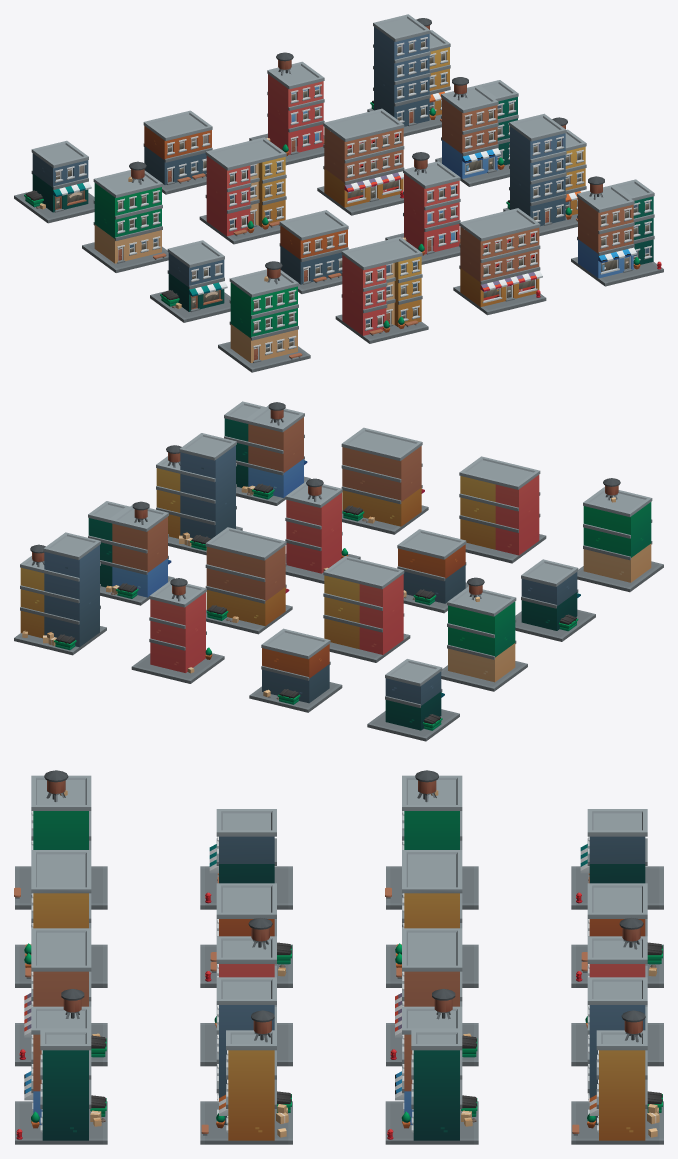
Rendered from map_buildings.glb.
3 views of the same model, one above another, from view 1: azimuth 30°, elevation 25°; view 2: azimuth 150°, elevation 25°; view 3: azimuth 270°, elevation 25° (orthographic). The views are drawn at different scales.
Visible parts, largest first — view 1: building_H, building_H.001, building_E, building_F, building_E.001, building_G, building_F.001, building_G.001, building_D, building_D.001, building_C, building_C.001 (+4 smaller); view 2: building_H.001, building_H, building_E, building_E.001, building_F, building_F.001, building_D, building_D.001, building_G.001, building_G, building_C.001, building_C (+4 smaller); view 3: building_H, building_H.001, building_G.001, building_G, building_F, building_F.001, building_E, building_A.001, building_D, building_E.001, building_A, building_D.001 (+4 smaller).
Part boxes in pixels (box(x1,y1,x2,y2)): building_H: box(503, 113, 586, 236); building_H.001: box(367, 14, 450, 136); building_E: box(453, 208, 546, 315); building_F: box(335, 237, 428, 343); building_E.001: box(317, 108, 404, 215); building_G: box(571, 176, 663, 286); building_F.001: box(199, 137, 286, 244); building_G.001: box(435, 77, 518, 186); building_D: box(218, 261, 310, 372); building_D.001: box(82, 161, 168, 272); building_C: box(385, 152, 460, 264); building_C.001: box(249, 52, 324, 165); building_H.001: box(14, 532, 106, 655); building_H: box(156, 433, 242, 555); building_E: box(341, 427, 428, 534); building_E.001: box(205, 527, 292, 634); building_F: box(459, 456, 546, 563); building_F.001: box(323, 556, 410, 662); building_D: box(577, 478, 663, 592); building_D.001: box(441, 577, 527, 691); building_G.001: box(88, 501, 174, 605); building_G: box(224, 401, 310, 505); building_C.001: box(131, 578, 224, 683); building_C: box(285, 478, 360, 583); building_H: box(200, 977, 292, 1144); building_H.001: box(571, 977, 663, 1144); building_G.001: box(385, 988, 478, 1144); building_G: box(15, 989, 107, 1144); building_F: box(15, 850, 107, 987); building_F.001: box(386, 850, 478, 987); building_E: box(15, 928, 107, 1066); building_A.001: box(571, 809, 663, 909); building_D: box(14, 770, 107, 909); building_E.001: box(386, 928, 478, 1066); building_A: box(200, 809, 292, 909); building_D.001: box(385, 770, 478, 909).
Bounding box in the file's own units: 14 × 3.05 × 14.02.
1 material, 1 textured.
